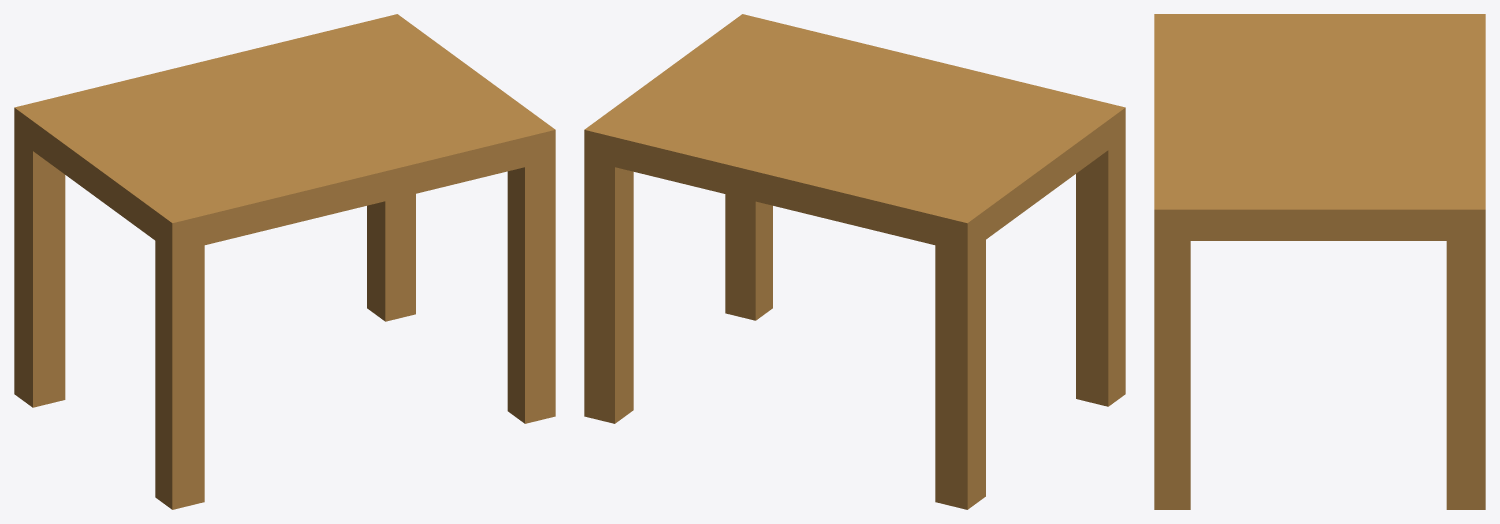
Rendered from Table01.fbx.
3 renders of one model, left to right at view 1: azimuth 30°, elevation 25°; view 2: azimuth 150°, elevation 25°; view 3: azimuth 270°, elevation 25°, orthographic. The views are drawn at different scales.
Parts seen in each view (by area): view 1: Cube; view 2: Cube; view 3: Cube.
Part boxes in pixels (x1,y1,x2,y2): Cube: (14, 14, 555, 509); Cube: (584, 14, 1125, 509); Cube: (1154, 14, 1485, 509).
Bounding box in the file's own units: 280 × 200 × 200.
